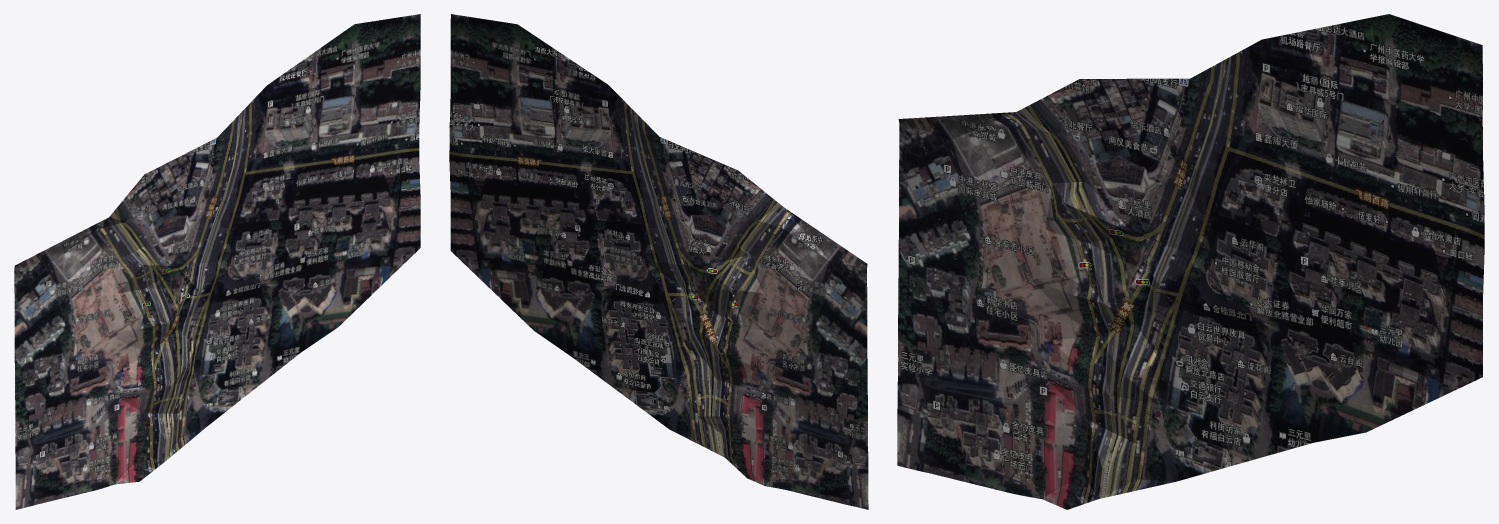
The picture shows the model from 3 angles, left to right: view 1: azimuth 30°, elevation 25°; view 2: azimuth 150°, elevation 25°; view 3: azimuth 330°, elevation 25°; orthographic projection. The views are drawn at different scales.
Parts seen in each view (by area): view 1: 0_0_1_3_3_2; view 2: 0_0_1_3_3_2; view 3: 0_0_1_3_3_2.
Part boxes in pixels (left/top/right/bottom): 0_0_1_3_3_2: left=14, top=14, right=420, bottom=509; 0_0_1_3_3_2: left=449, top=14, right=868, bottom=509; 0_0_1_3_3_2: left=897, top=14, right=1484, bottom=509.
Size of the model in its own units: 486 by 454 by 22.2.
Materials: 1 (1 with a texture image).
